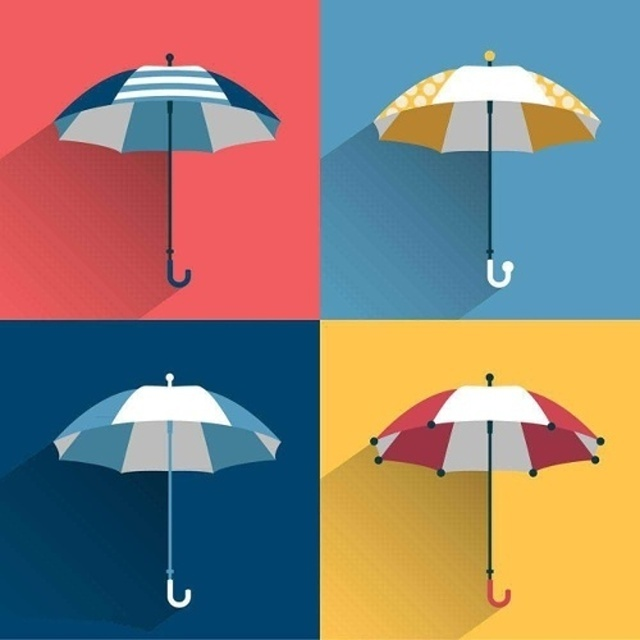umbrella: (366, 369, 608, 615), (48, 50, 285, 290), (51, 370, 283, 615), (372, 46, 603, 290)
